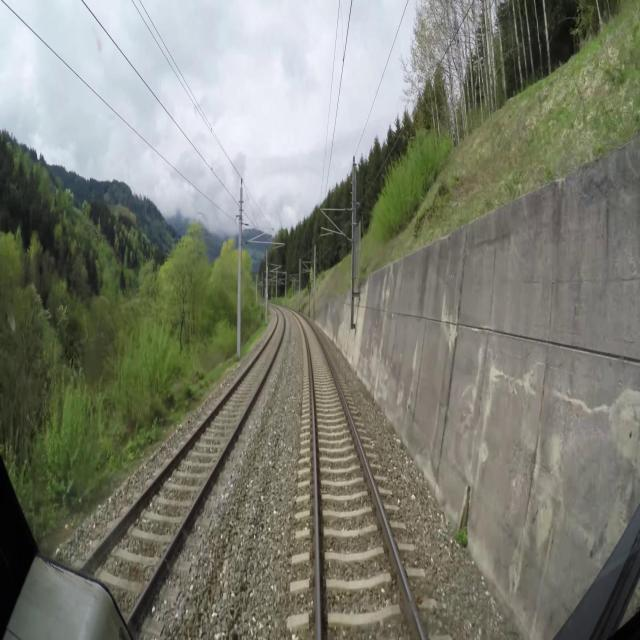rail-track: (87, 311, 284, 614), (298, 315, 422, 639)
